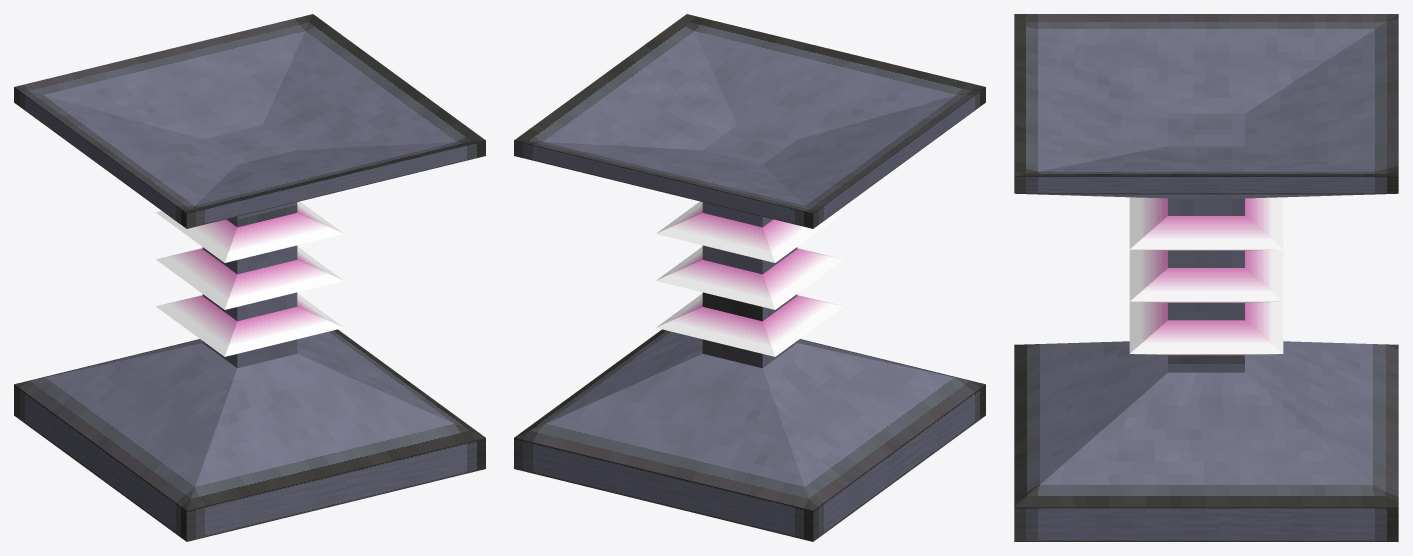
File: pedestal.obj
3 views of the same model, side by side, from view 1: azimuth 30°, elevation 25°; view 2: azimuth 150°, elevation 25°; view 3: azimuth 270°, elevation 25° (orthographic). The views are drawn at different scales.
Visible parts, largest first — view 1: Cube; view 2: Cube; view 3: Cube.
Boxes of the visible parts, x1=… form: Cube: x1=14, y1=14, x2=485, y2=541; Cube: x1=514, y1=14, x2=985, y2=541; Cube: x1=1014, y1=14, x2=1398, y2=541.
Size of the model in its own units: 2 by 2.1 by 2.
